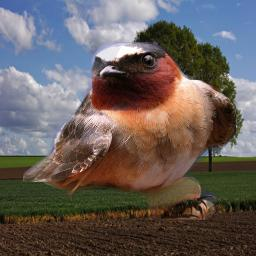Swallow: (23, 42, 236, 220)
